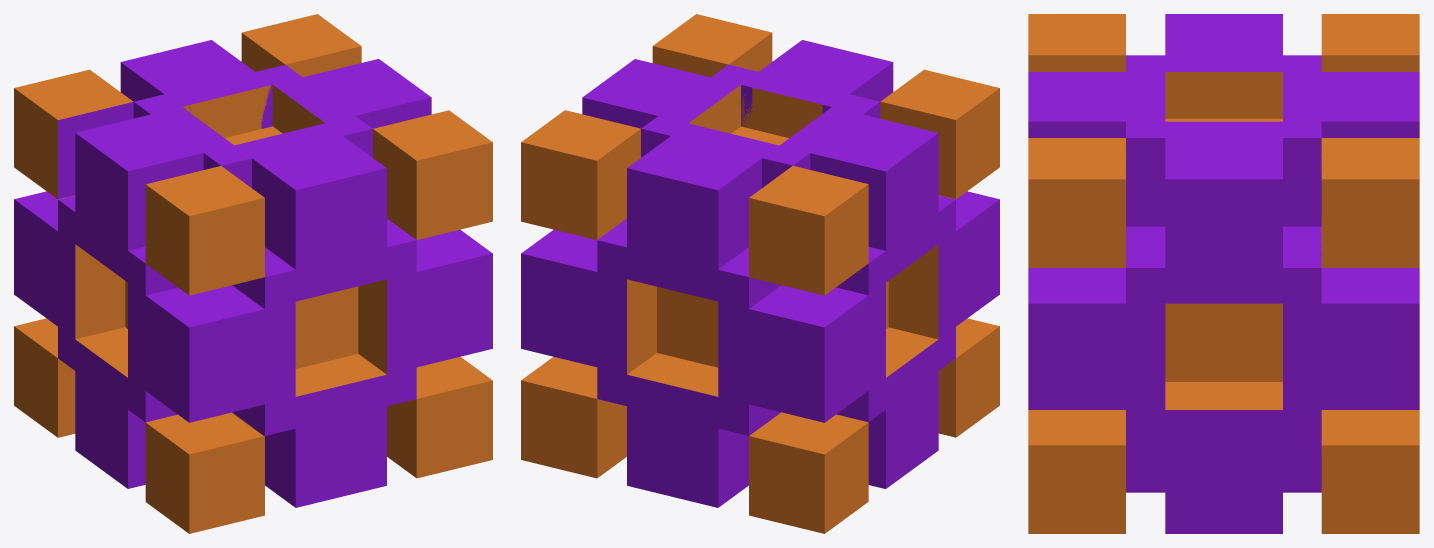
3 views of the same model, side by side, from view 1: azimuth 30°, elevation 25°; view 2: azimuth 150°, elevation 25°; view 3: azimuth 270°, elevation 25° (orthographic). The views are drawn at different scales.
Visible parts, largest first — view 1: Cube; view 2: Cube; view 3: Cube.
Boxes of the visible parts, left/top/right/bottom form: Cube: left=14, top=14, right=492, bottom=533; Cube: left=521, top=14, right=999, bottom=533; Cube: left=1028, top=14, right=1419, bottom=533.
Bounding box in the file's own units: 200 × 200 × 200.
